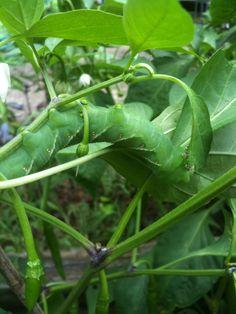Bell_pepper leaf spot: (6, 7, 123, 50), (122, 1, 196, 53)
